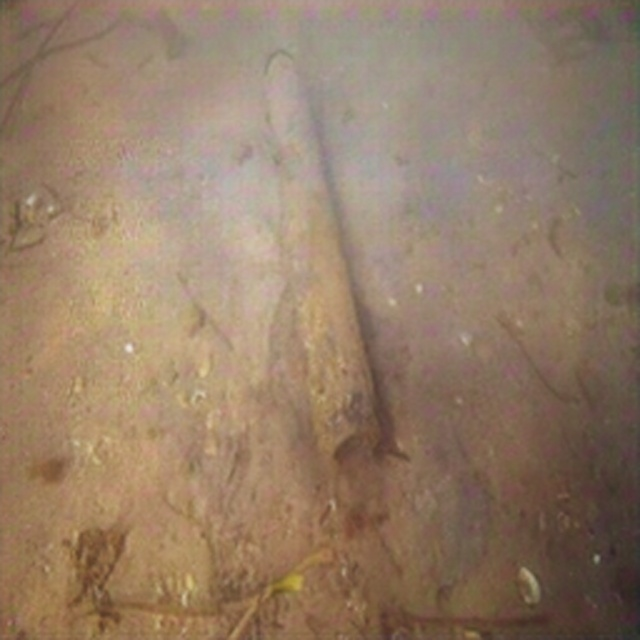mine: (264, 47, 381, 475)
